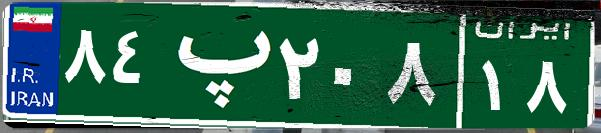0: (330, 28, 385, 110)
1: (475, 38, 525, 113)
2: (273, 28, 330, 110)
4: (110, 28, 158, 105)
8: (385, 28, 445, 110), (57, 26, 110, 107), (525, 38, 570, 115)
پ: (158, 15, 273, 115)
